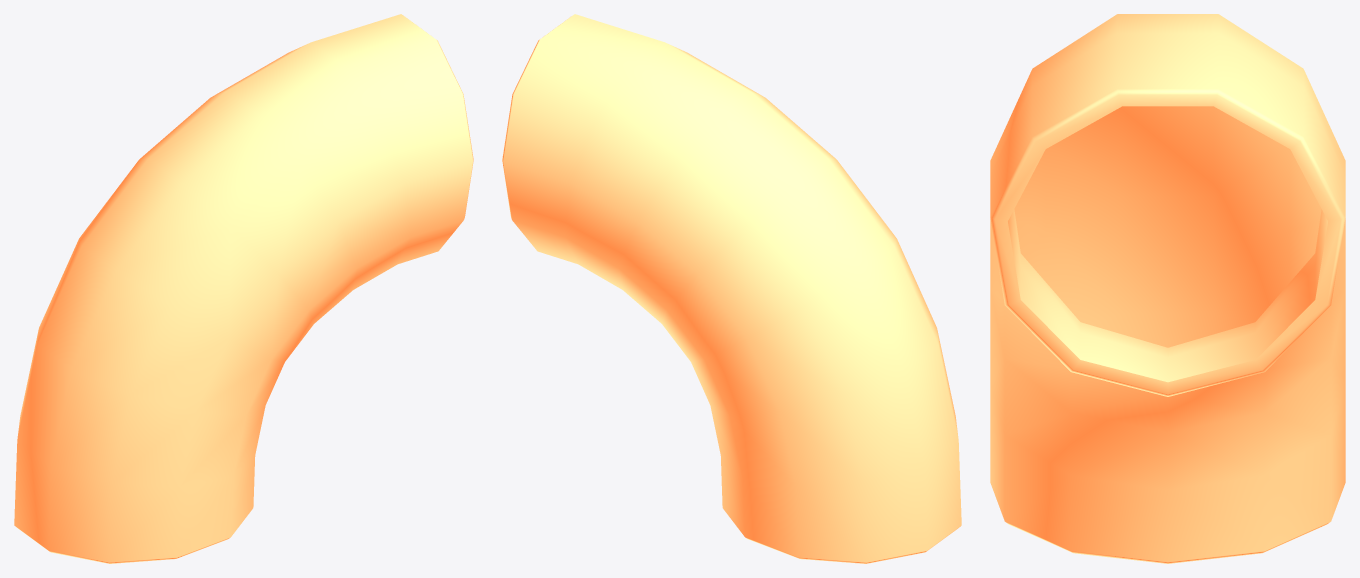
Rendered from SM_Smallpipe5.fbx.
3 renders of one model, left to right at view 1: azimuth 30°, elevation 25°; view 2: azimuth 150°, elevation 25°; view 3: azimuth 270°, elevation 25°, orthographic. The views are drawn at different scales.
Parts seen in each view (by area): view 1: SM_Smallpipe5_LOD0; view 2: SM_Smallpipe5_LOD0; view 3: SM_Smallpipe5_LOD0.
Boxes of the visible parts, x1,y1,x2,y2 form: SM_Smallpipe5_LOD0: (14, 14, 473, 563); SM_Smallpipe5_LOD0: (502, 14, 961, 563); SM_Smallpipe5_LOD0: (990, 14, 1345, 563).
Size of the model in its own units: 49.06 by 26.18 by 50.49.
